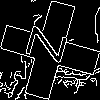Z: (25, 25, 78, 67)
